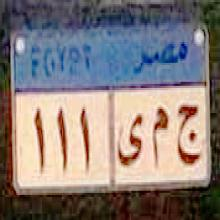1: (77, 102, 99, 172), (56, 105, 71, 170), (35, 108, 46, 173)
jeem: (172, 98, 204, 171)
meem: (147, 105, 169, 169)
yaa: (116, 112, 144, 169)
